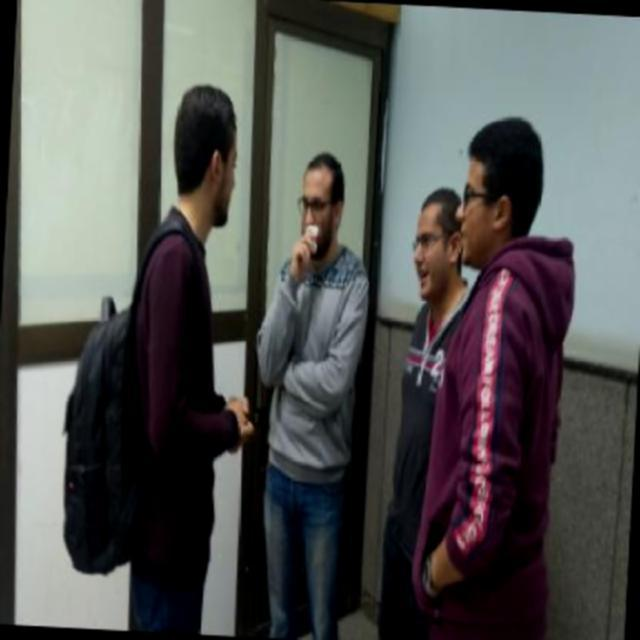non-fight: (371, 106, 580, 639), (87, 62, 247, 635), (230, 136, 372, 638)
